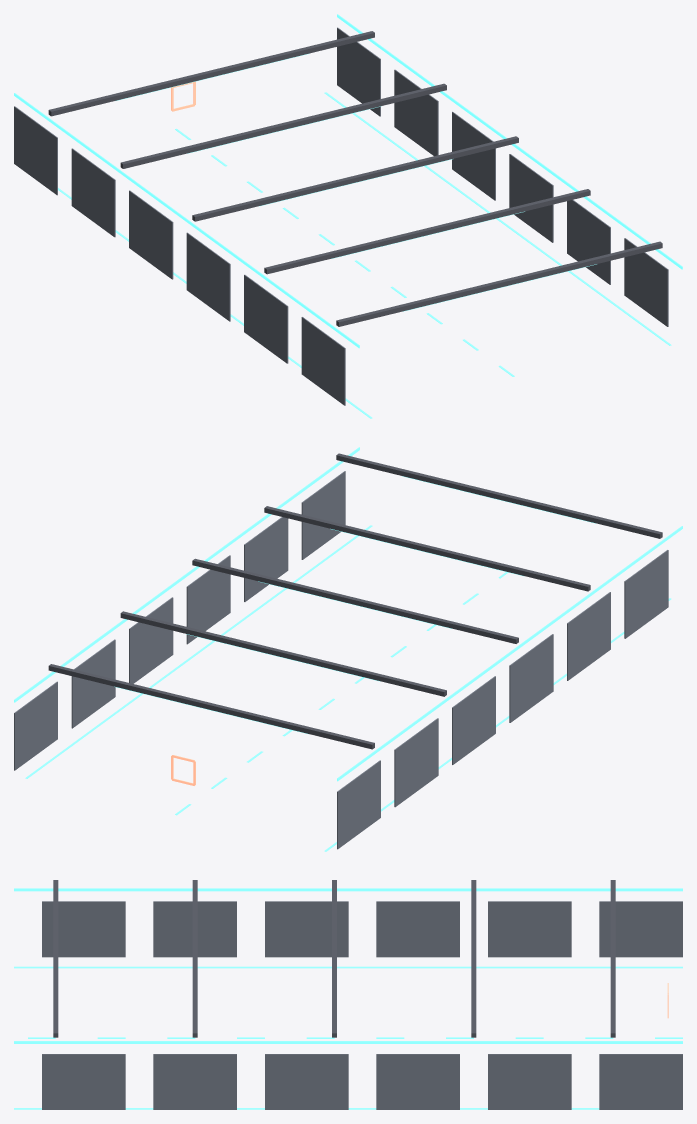
Rendered from range-cover-peek.glb.
The picture shows the model from 3 angles, top to bottom: view 1: azimuth 30°, elevation 25°; view 2: azimuth 150°, elevation 25°; view 3: azimuth 270°, elevation 25°; orthographic projection. The views are drawn at different scales.
Visible parts, largest first — view 1: Panel-1_1, Panel-1_2, Panel-1_4, Panel-1_3, Panel-1_5, Panel-1_0, Beam4, Beam0, Beam2, Beam3, Beam1, Panel1_5 (+8 smaller); view 2: Panel-1_1, Panel-1_3, Panel-1_5, Panel-1_0, Panel1_0, Panel-1_2, Panel-1_4, Beam1, Beam2, Beam4, Beam0, Beam3 (+8 smaller); view 3: Panel-1_1, Panel-1_2, Panel1_0, Panel1_1, Panel1_2, Panel1_3, Panel1_4, Panel1_5, Panel-1_0, Panel-1_4, Panel-1_5, Panel-1_3 (+8 smaller).
Part boxes in pixels (x1,y1,x2,y2): Panel-1_1: (71, 148, 115, 237); Panel-1_2: (129, 190, 173, 279); Panel-1_4: (244, 274, 288, 363); Panel-1_3: (186, 232, 230, 321); Panel-1_5: (301, 317, 345, 405); Panel-1_0: (14, 106, 57, 195); Beam4: (336, 241, 662, 326); Beam0: (48, 31, 374, 116); Beam2: (192, 136, 518, 221); Beam3: (264, 189, 590, 274); Beam1: (120, 83, 446, 168); Panel1_5: (624, 238, 668, 326); Panel-1_1: (394, 718, 438, 807); Panel-1_3: (509, 634, 553, 722); Panel-1_5: (624, 550, 668, 638); Panel-1_0: (337, 760, 380, 849); Panel1_0: (14, 681, 57, 770); Panel-1_2: (452, 676, 495, 764); Panel-1_4: (567, 592, 610, 680); Beam1: (120, 611, 446, 696); Beam2: (192, 558, 518, 643); Beam4: (336, 453, 662, 538); Beam0: (48, 664, 374, 749); Beam3: (264, 506, 590, 591); Panel-1_1: (488, 901, 571, 957); Panel-1_2: (376, 901, 459, 957); Panel1_0: (599, 1054, 682, 1109); Panel1_1: (488, 1054, 571, 1109); Panel1_2: (376, 1054, 459, 1109); Panel1_3: (265, 1054, 348, 1109); Panel1_4: (153, 1054, 236, 1109); Panel1_5: (42, 1054, 125, 1109); Panel-1_0: (599, 901, 682, 957); Panel-1_4: (153, 901, 236, 957); Panel-1_5: (42, 901, 125, 957); Panel-1_3: (265, 901, 348, 957).
Size of the model in its own units: 13 by 3.24 by 24.
